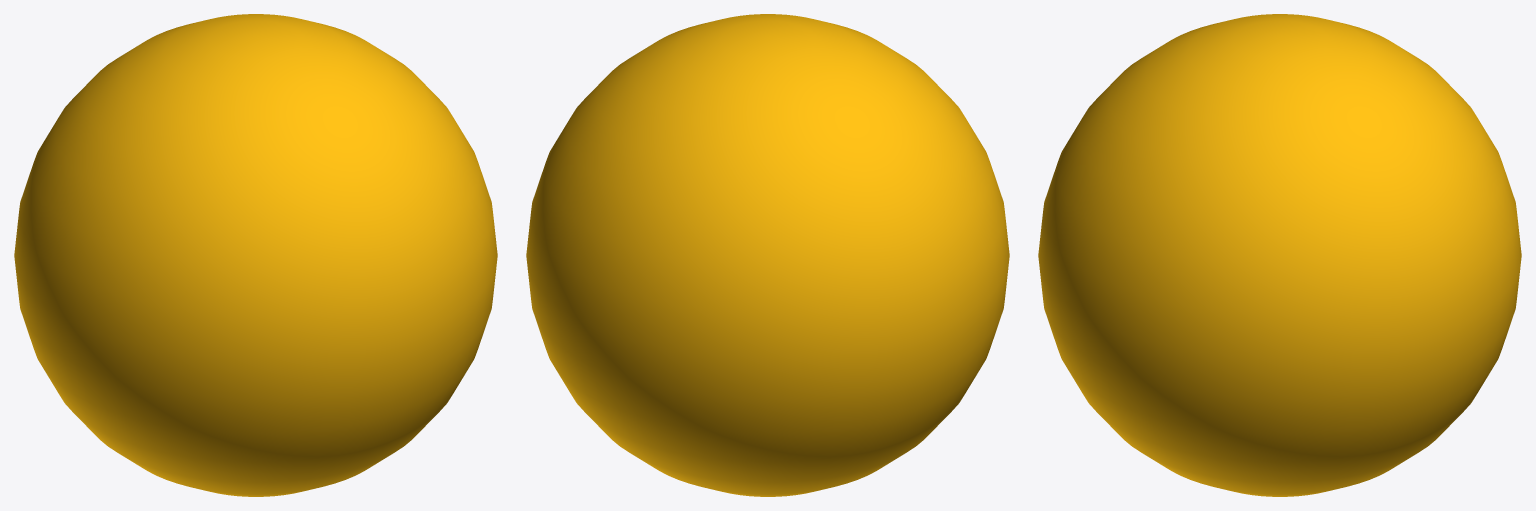
Rendered from yellow_orb.fbx.
3 views of the same model, side by side, from view 1: azimuth 30°, elevation 25°; view 2: azimuth 150°, elevation 25°; view 3: azimuth 270°, elevation 25° (orthographic).
Visible parts, largest first — view 1: Sphere; view 2: Sphere; view 3: Sphere.
Part boxes in pixels (x1=…): Sphere: x1=14, y1=14, x2=497, y2=496; Sphere: x1=526, y1=14, x2=1009, y2=496; Sphere: x1=1038, y1=14, x2=1521, y2=496.
Bounding box in the file's own units: 100 × 100 × 100.
